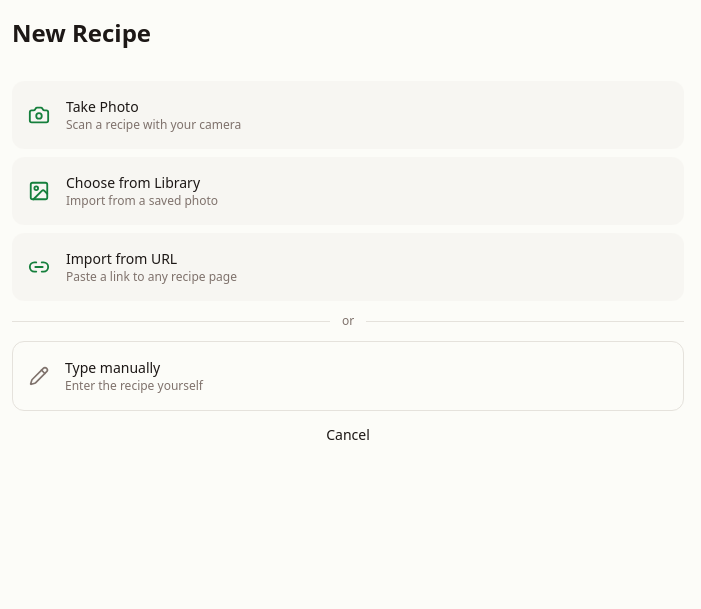
Test: RecipeForm — new recipe › renders empty form with one ingredient row after entering manually
The width and height of the screenshot is (701, 609).
Check: the heading "New Recipe" is shown, box [12,16,151,49]
Click the text "Type manually" at [113, 368], box [65,358,160,377]
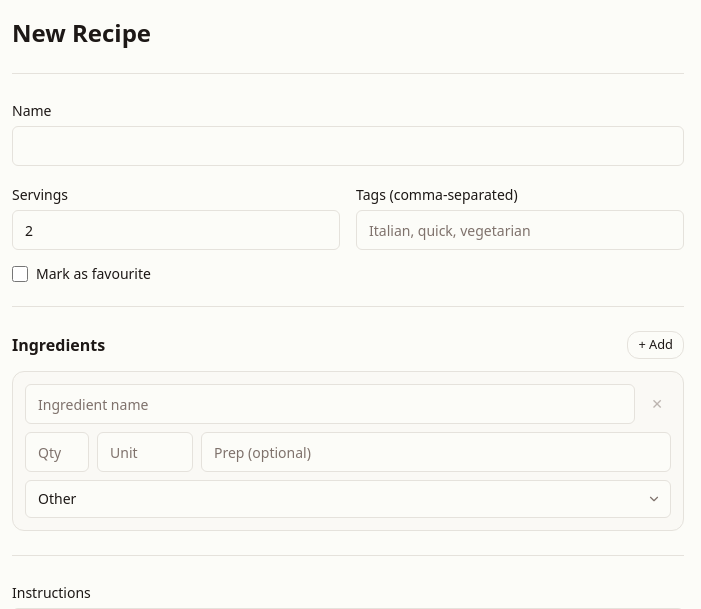
Check: the field labelled "Name" is empty, box [12,126,684,166]
Check: the number field labelled "Servings" holds "2", box [12,210,340,250]
